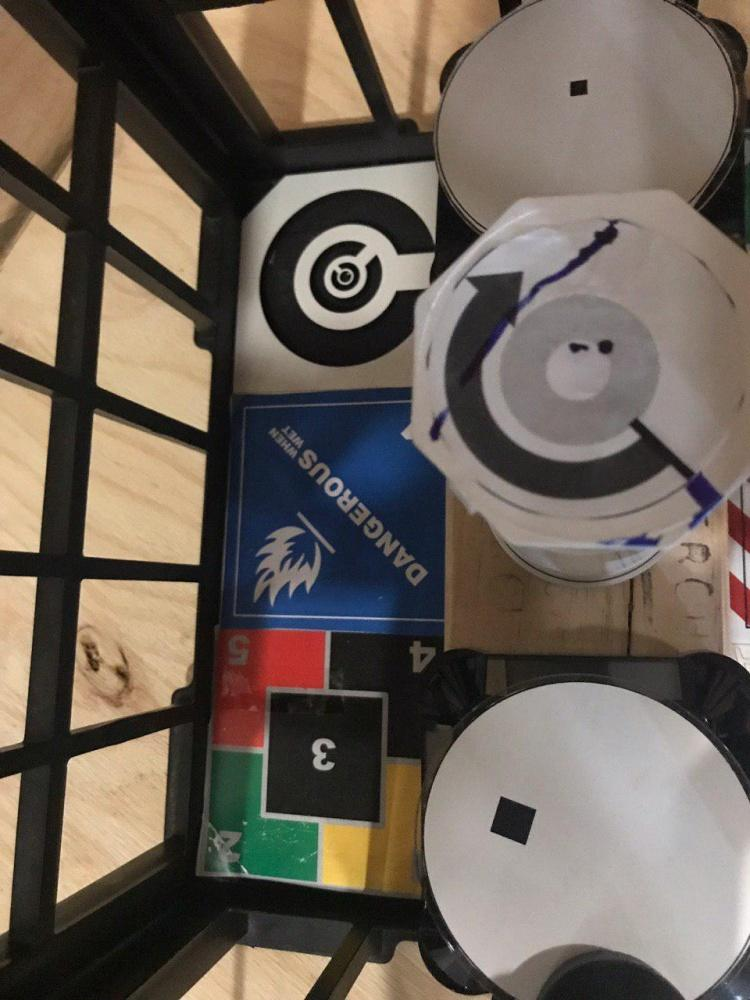dangerous-when-wet: (231, 384, 450, 631)
